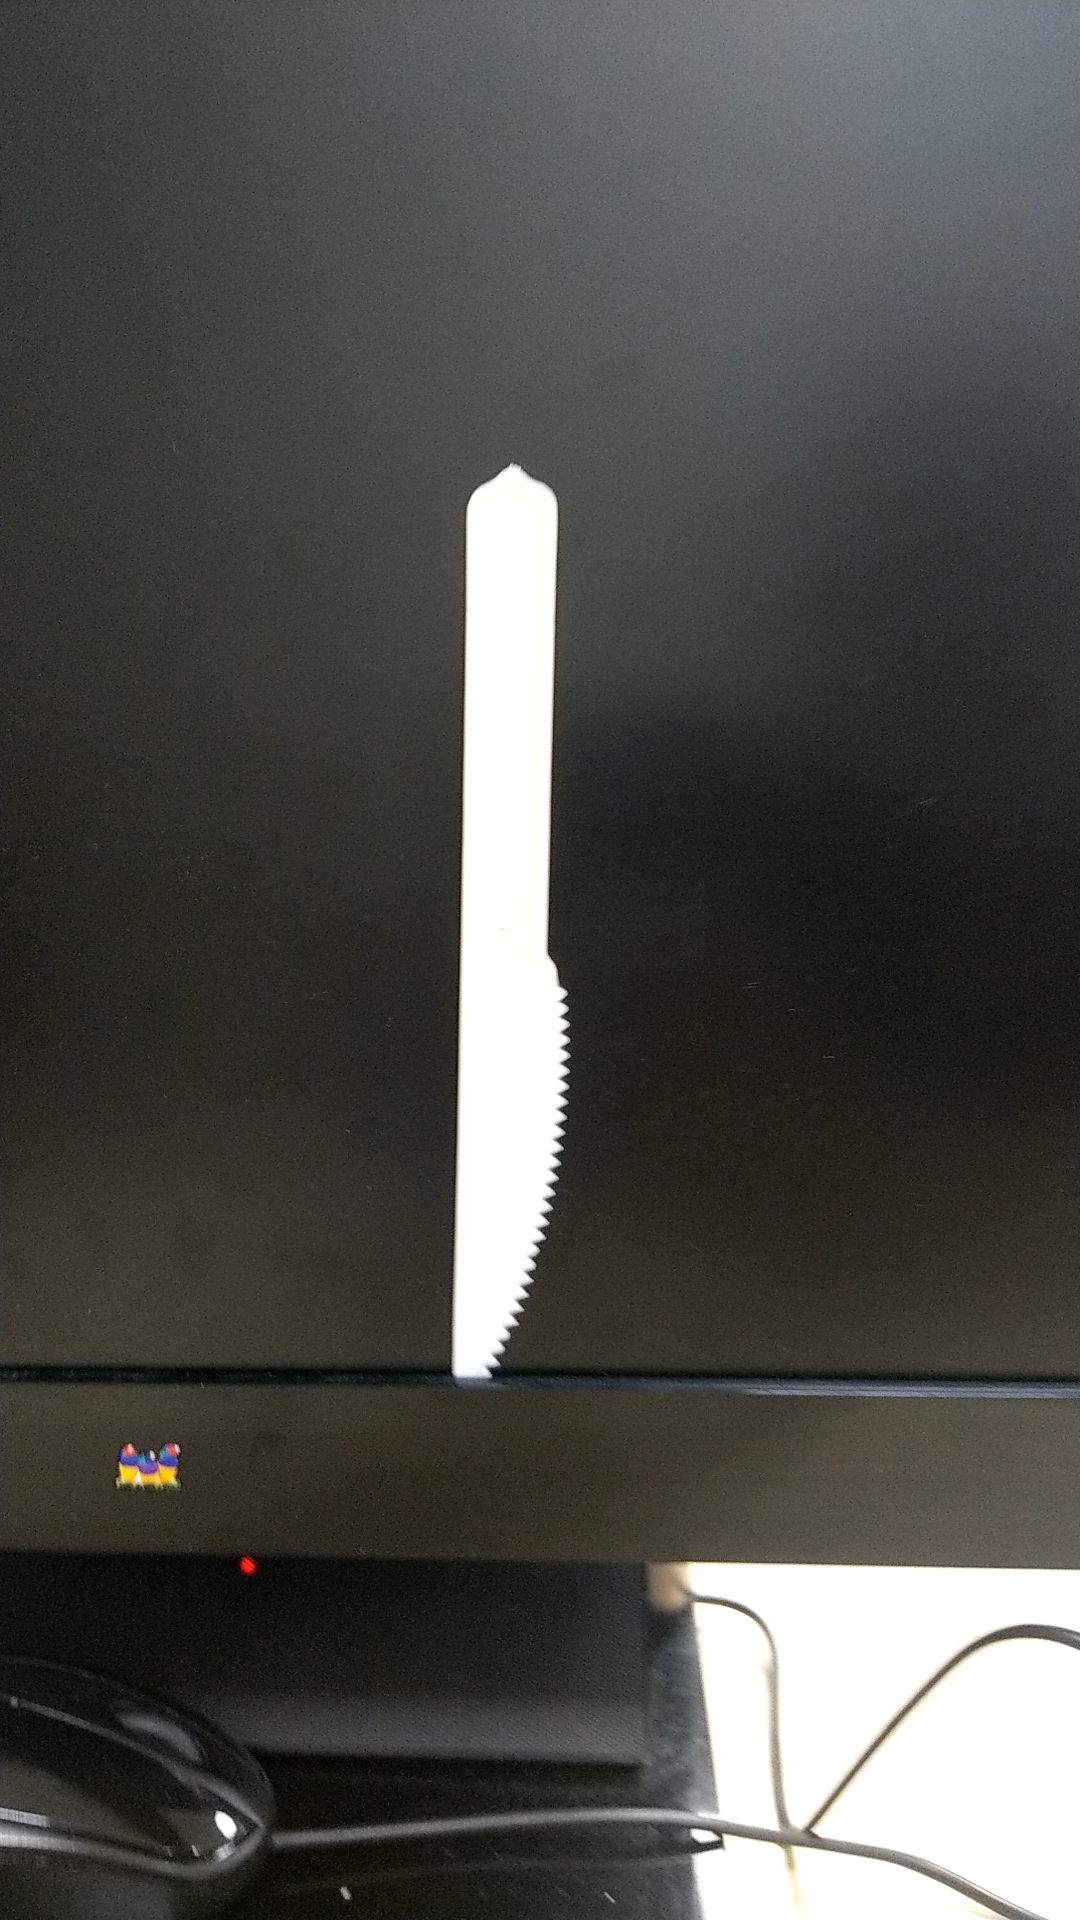knife: (396, 425, 609, 1371)
